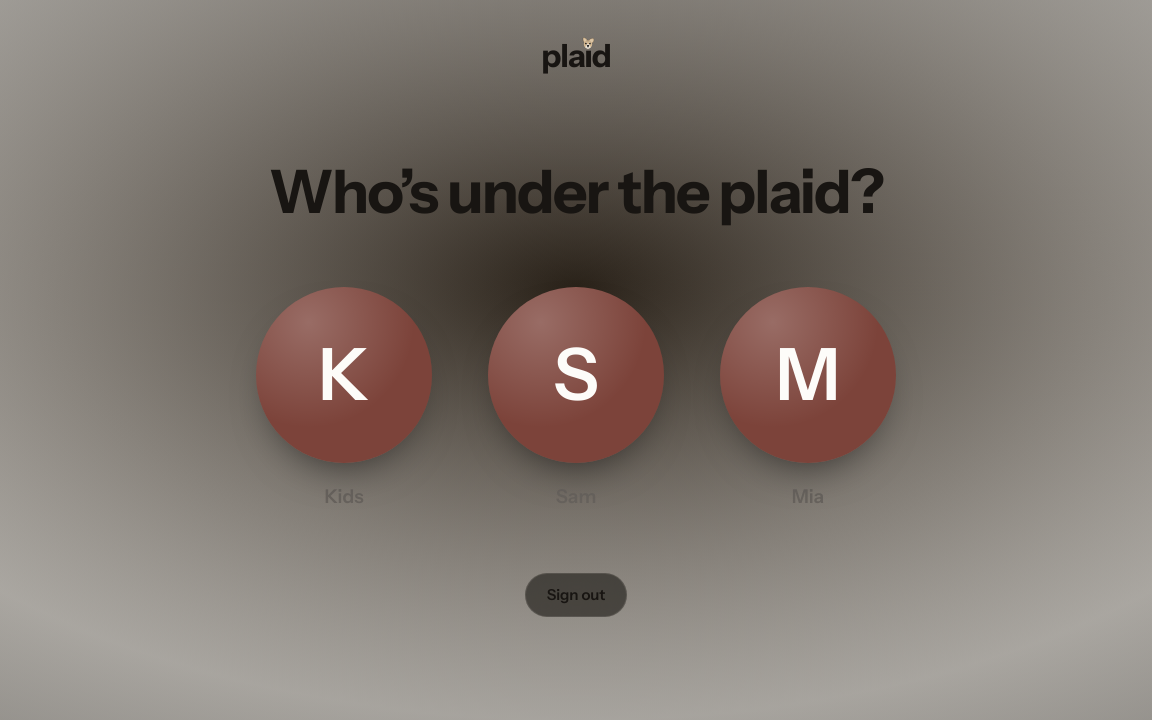
Test case: ProfilePicker › asks once per tab when the account has several profiles, then goes where it was headed
This screenshot has width=1152, height=720.
Expected: the heading "Who’s under the plaid?" is shown, left=269, top=160, right=883, bottom=222
Click the button "S Sam". click: click(576, 398)
box: left=488, top=286, right=664, bottom=508
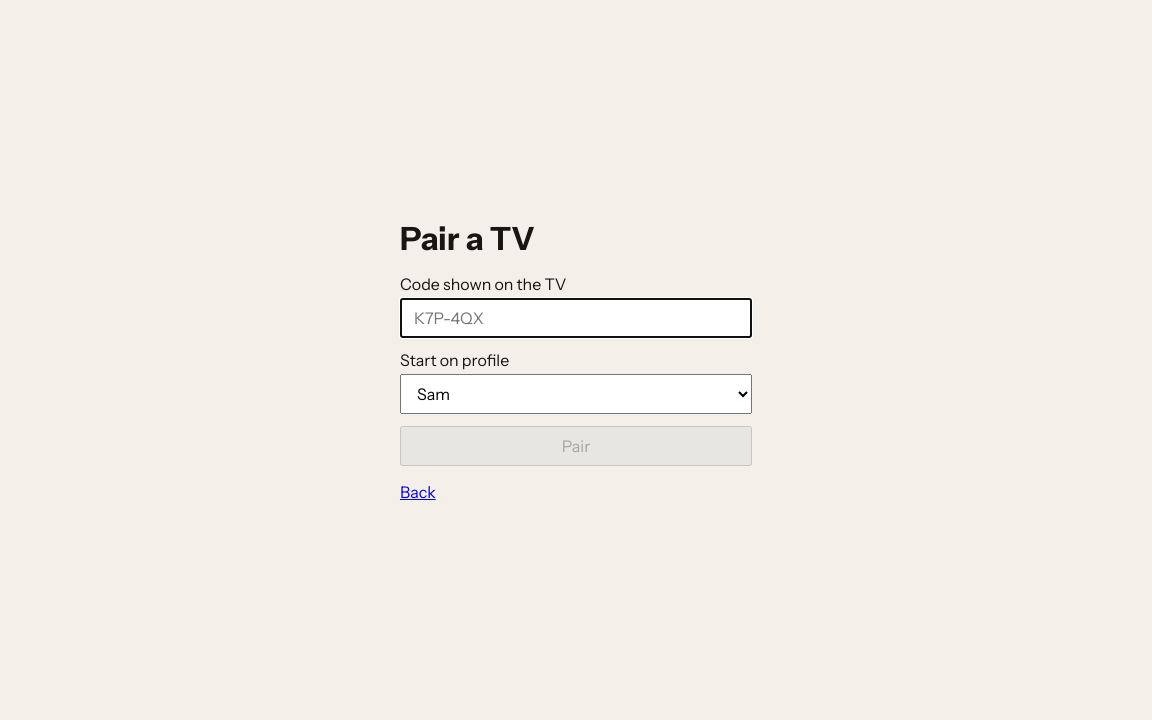
Result: the heading "Pair a TV" is shown at left=400, top=218, right=535, bottom=258
